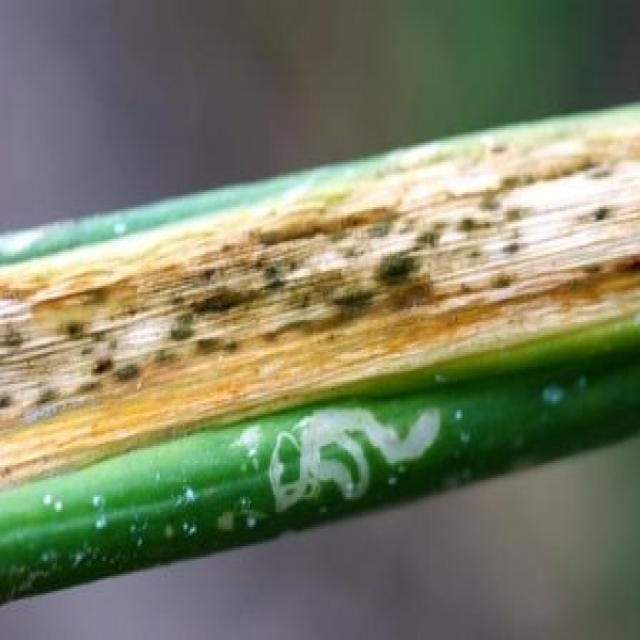blight: (334, 170, 605, 412), (7, 251, 276, 405)
